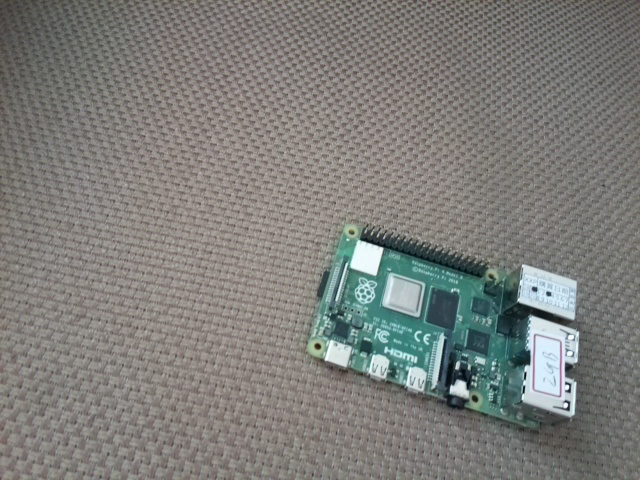Pi4: (300, 215, 587, 440)
